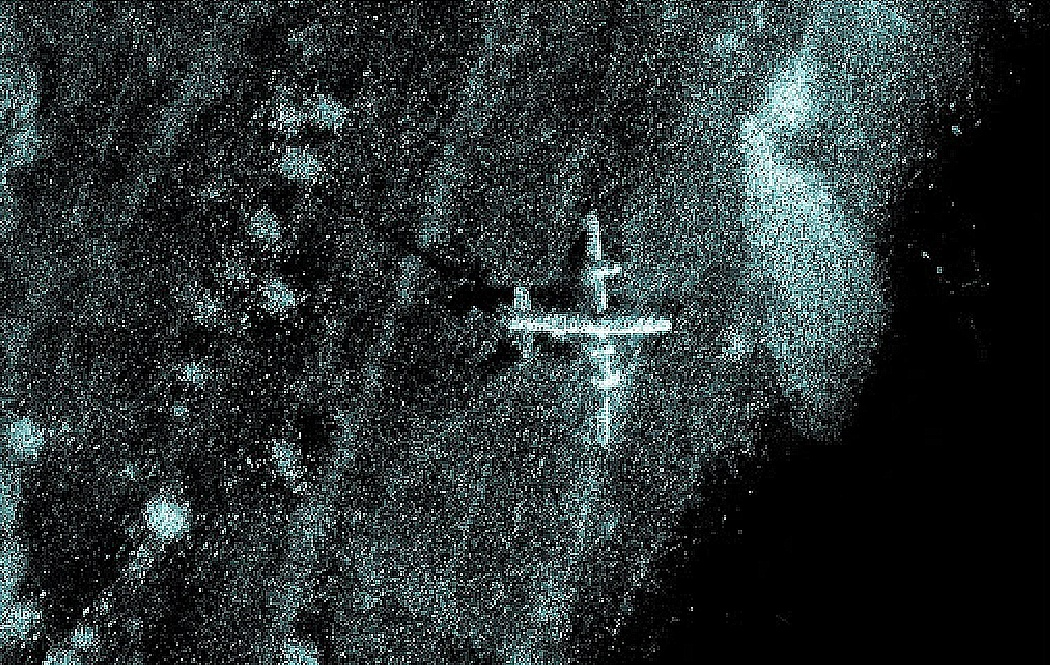aircraft: (497, 208, 677, 454)
